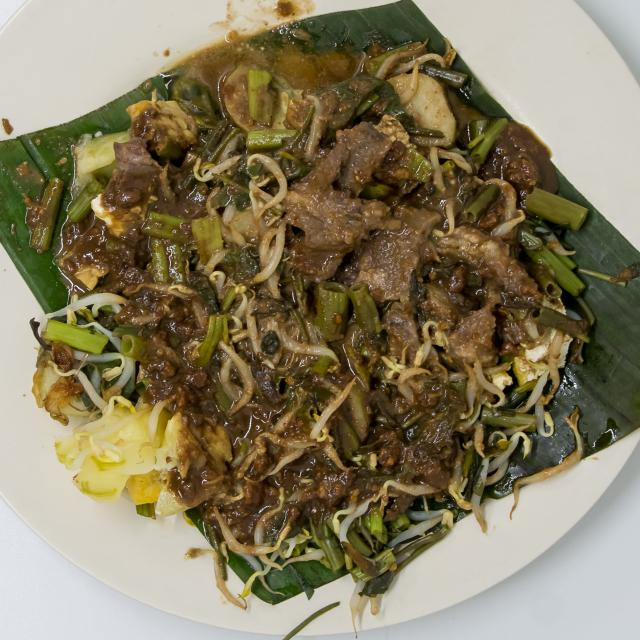Rujak-Cingur: (29, 23, 597, 564)
